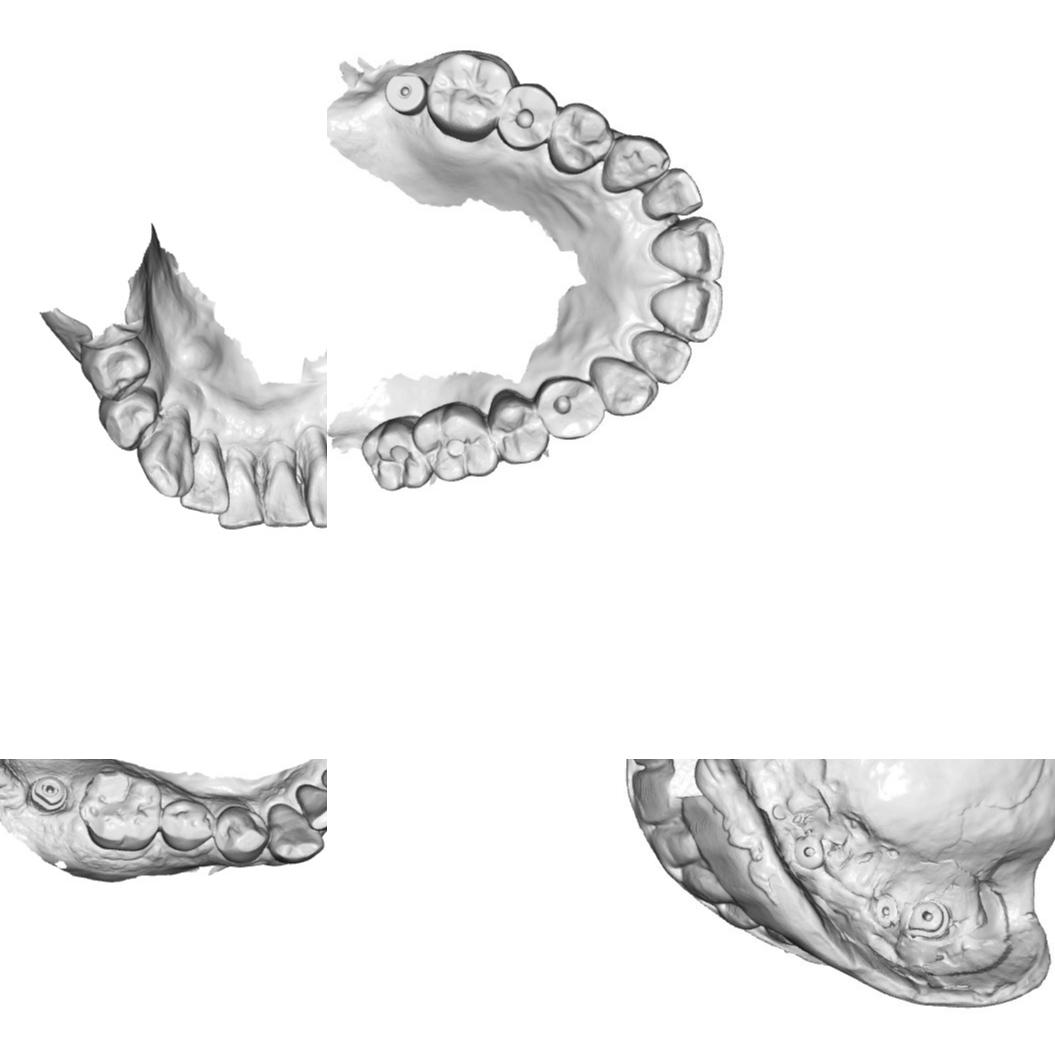canine: (136, 409, 194, 500), (593, 353, 659, 416), (605, 136, 668, 195), (266, 802, 325, 865)
implant: (384, 67, 430, 120), (910, 897, 948, 943), (868, 889, 902, 928), (793, 837, 826, 870)
implant_minus: (22, 774, 70, 819)
incisor: (260, 450, 311, 529), (216, 452, 267, 530), (179, 440, 230, 518), (655, 279, 720, 339), (655, 220, 718, 276), (643, 168, 701, 218), (632, 329, 687, 380), (306, 434, 327, 527), (294, 782, 327, 833)
molar: (78, 766, 163, 851), (430, 55, 507, 134), (416, 405, 496, 480), (363, 418, 432, 491)
premolar: (79, 335, 152, 399), (97, 386, 158, 452), (539, 376, 604, 437), (549, 103, 606, 170), (501, 85, 558, 149), (214, 803, 271, 864), (493, 393, 543, 462), (160, 796, 216, 853)
